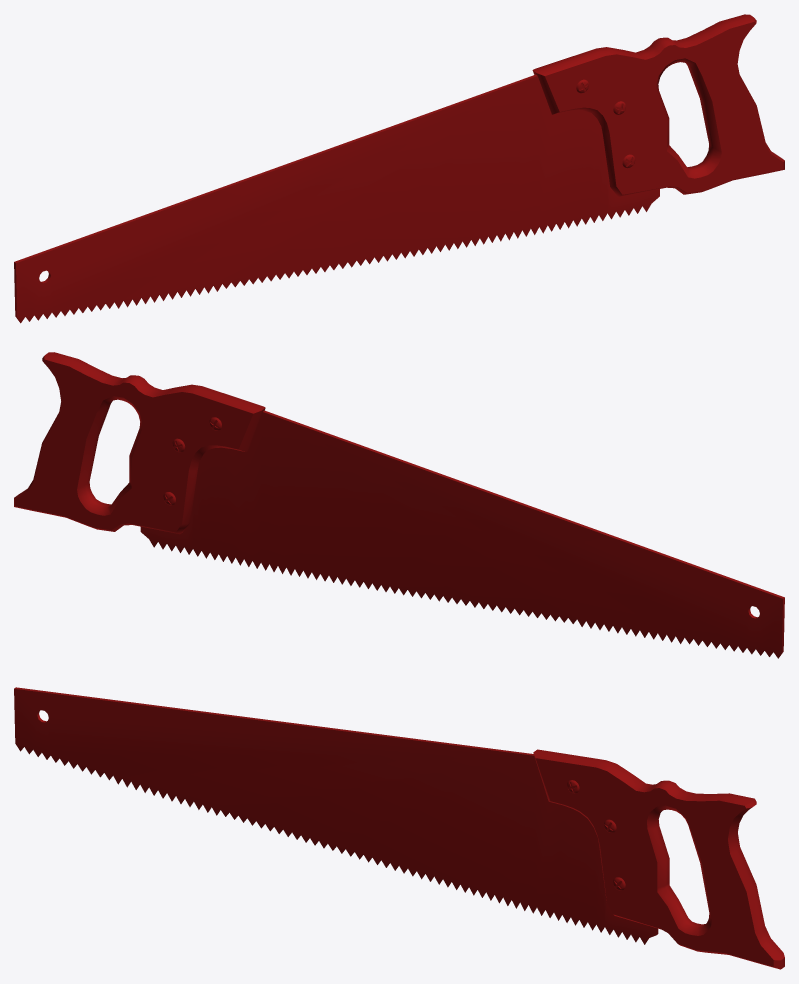
File: saw_low.FBX
3 renders of one model, top to bottom at view 1: azimuth 30°, elevation 25°; view 2: azimuth 150°, elevation 25°; view 3: azimuth 330°, elevation 25°, orthographic.
Visible parts, largest first — view 1: Saw; view 2: Saw; view 3: Saw.
Part boxes in pixels (box(x1,y1,x2,y2)): Saw: box(14, 14, 784, 323); Saw: box(14, 352, 784, 658); Saw: box(14, 687, 784, 969).
Bounding box in the file's own units: 1153 × 247 × 32.8.
